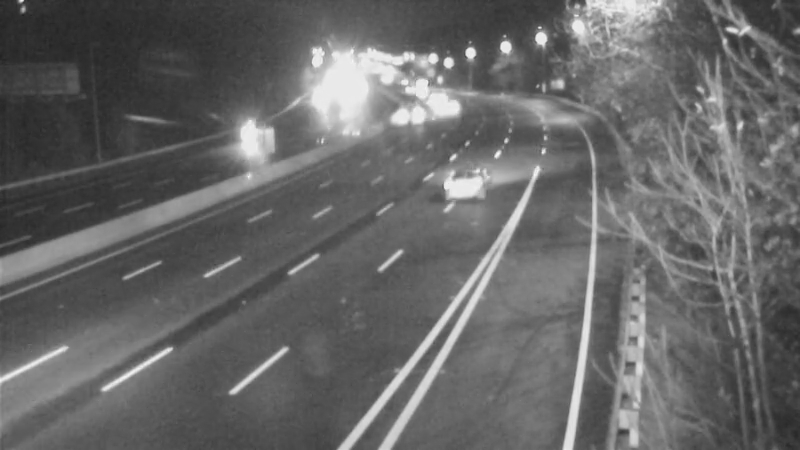vehicle: (425, 144, 505, 224), (421, 78, 471, 128), (384, 85, 434, 135), (224, 112, 274, 162)
